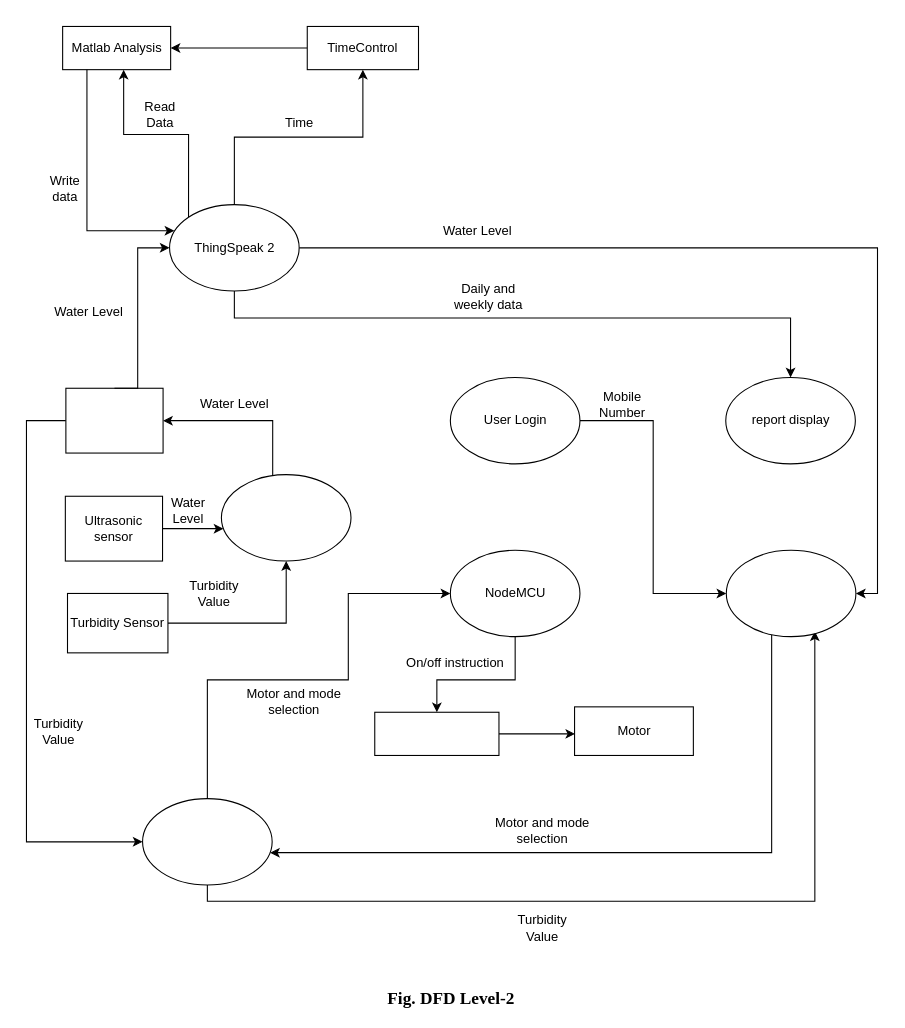
The diagram is 905 pixels wide and 1028 high, and some of its shapes have lost their labels. The centre of each missing label's shape, as x and y in pixels:
Arduino: (285,517)
ESP8266 module: (114,420)
Relay: (436,733)
Tank Simulation: (790,593)
ThingSpeak 1: (206,841)
